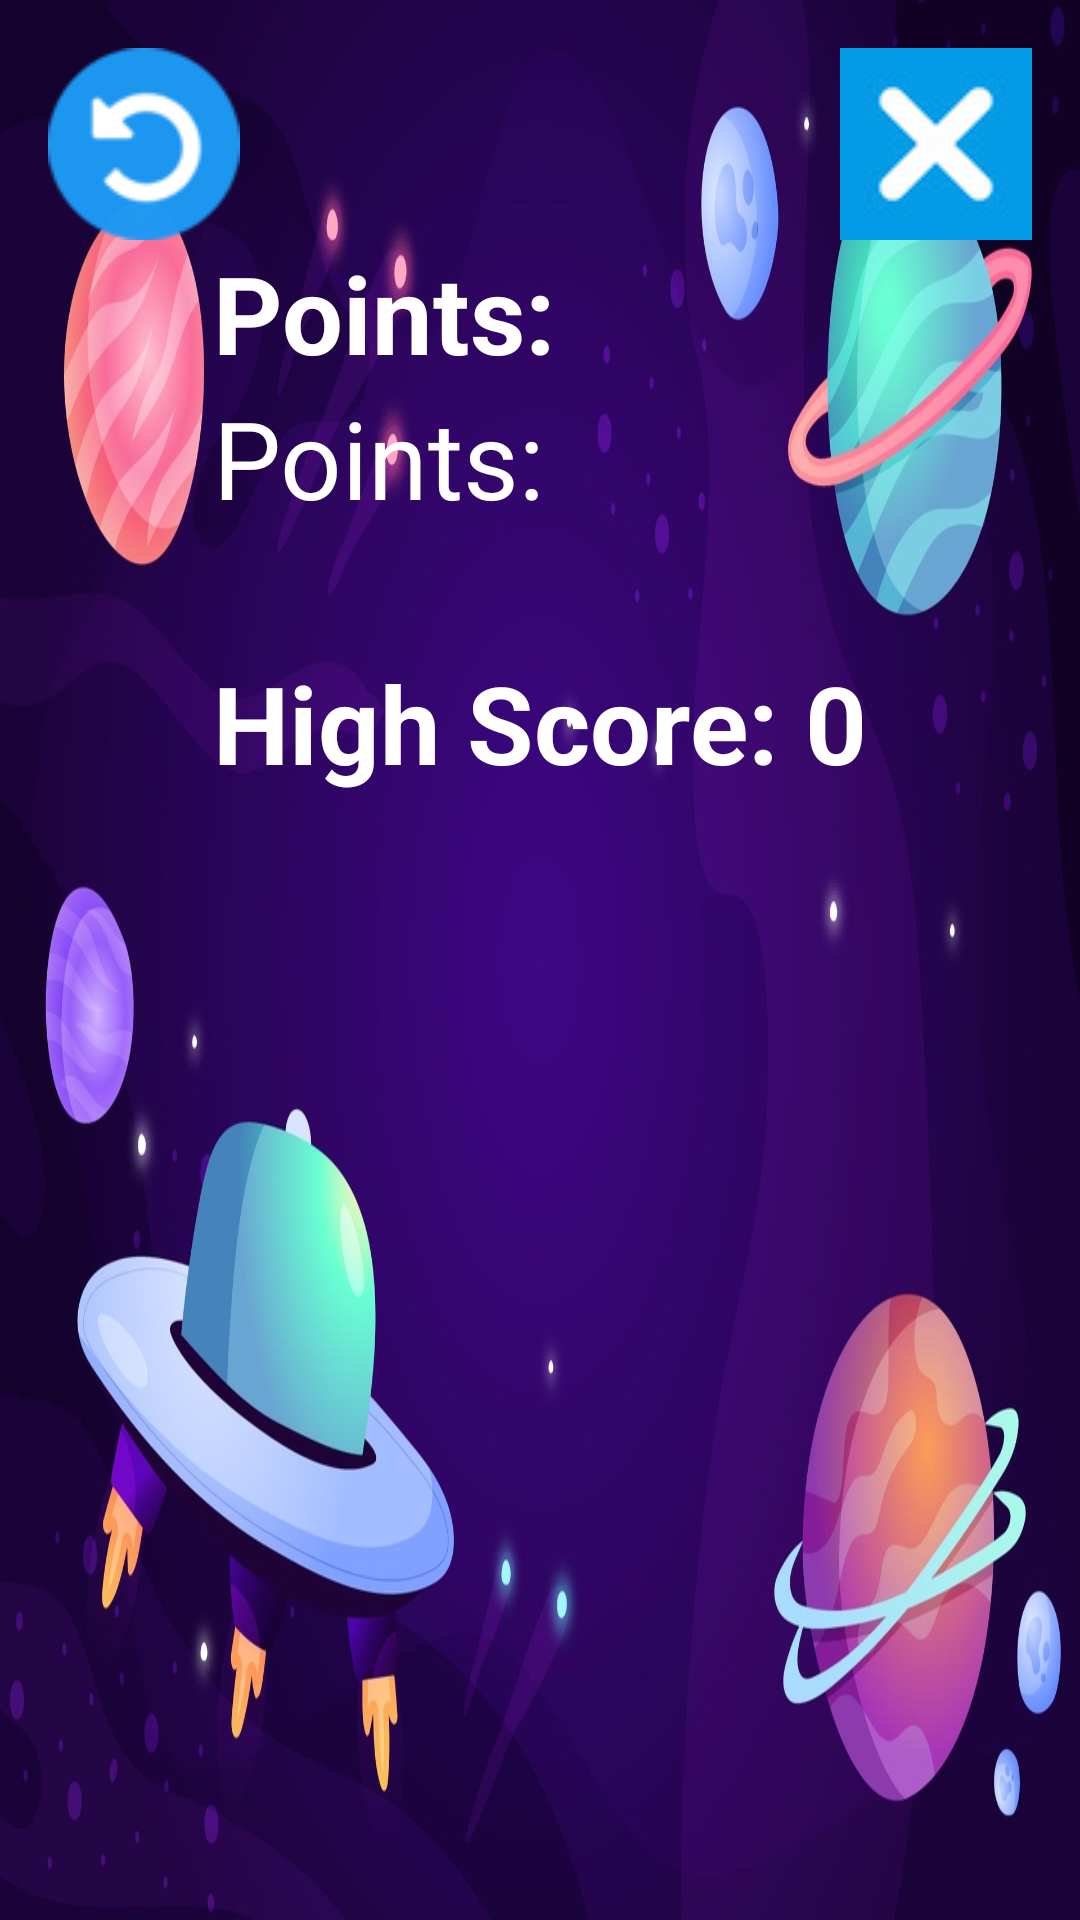

Where to tap for icons on this 1080px x 1920px app screen, as (x,y):
exit: (936,144)
restart: (144,144)
